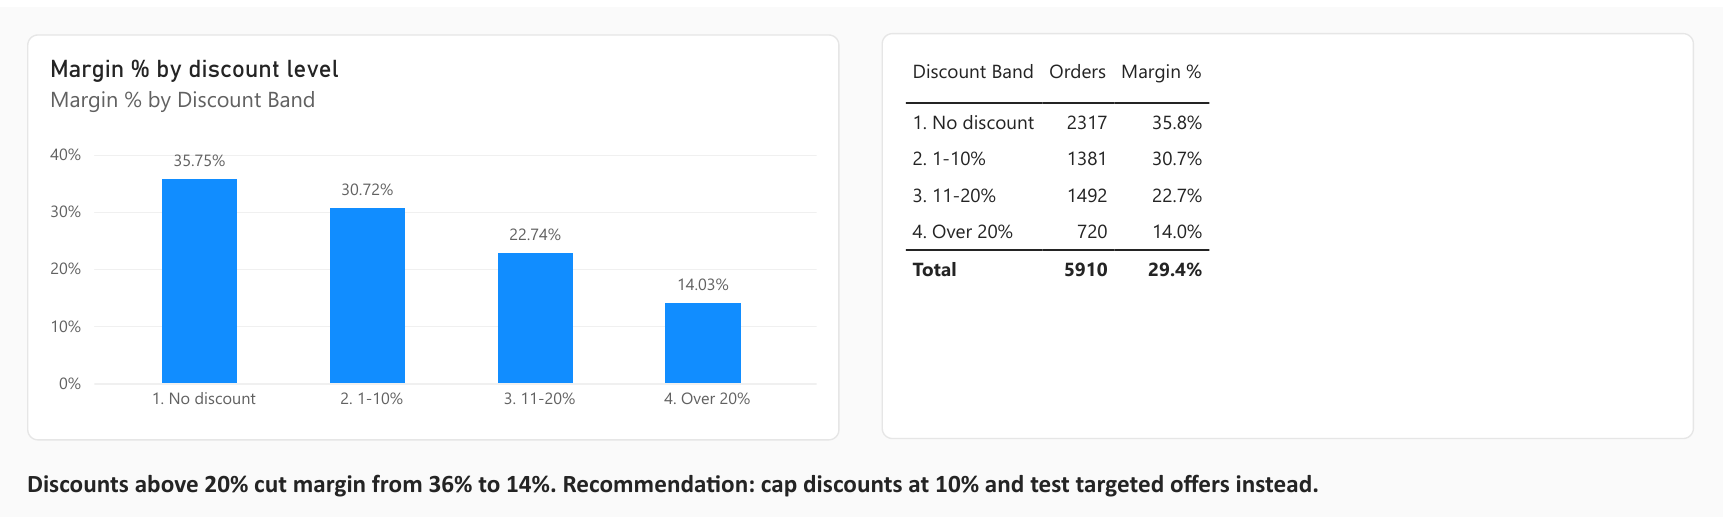

What the dashboard file says about the page in this screenshot:
{"tool":"powerbi","page":{"name":"Discount Insight","canvas":[1920,1080],"ordinal":1},"visuals":[{"type":"clusteredColumnChart","title":"Margin % by discount level","fields":{"Category":["fact_sales.Discount Band"],"Y":["fact_sales.Margin %"]},"box":[20,20,600,300],"z":0},{"type":"textbox","box":[20,340,1230,90],"z":2000},{"type":"tableEx","fields":{"Values":["fact_sales.Discount Band","fact_sales.Orders","fact_sales.Margin %"]},"box":[650.6,19.5,600,300],"z":2001}]}

Visuals, with their boxes on the page's 1920x1080 design canvas (x1, y1, x2, y2). These are canvas units, not pixel positions in the 1723x517 screenshot, which may show the page scaled, cropped or inside an application window:
"Margin % by discount level" clusteredColumnChart: bbox(20, 20, 620, 320)
textbox: bbox(20, 340, 1250, 430)
tableEx - fact_sales.Discount Band x fact_sales.Orders: bbox(651, 20, 1251, 320)
